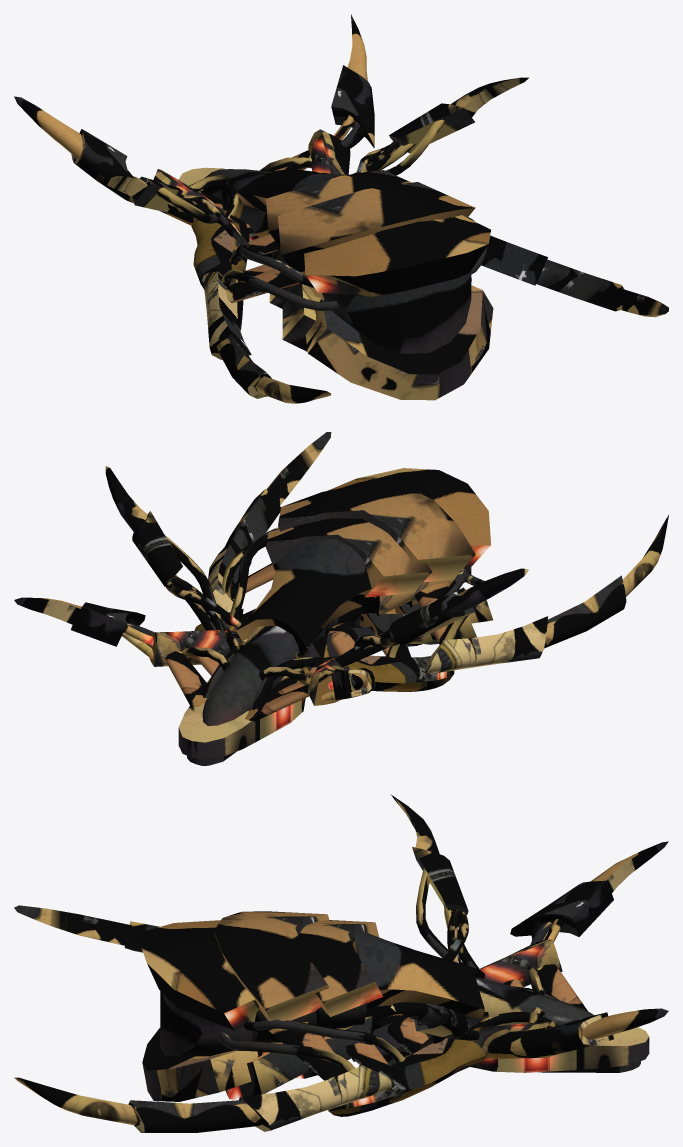
Rendered from ship19f.fbx.
The picture shows the model from 3 angles, top to bottom: view 1: azimuth 30°, elevation 25°; view 2: azimuth 150°, elevation 25°; view 3: azimuth 270°, elevation 25°; orthographic projection. The views are drawn at different scales.
Visible parts, largest first — view 1: PipelineFBX; view 2: PipelineFBX; view 3: PipelineFBX.
Boxes of the visible parts, left/top/right/bottom form: PipelineFBX: left=14, top=14, right=668, bottom=403; PipelineFBX: left=14, top=432, right=668, bottom=765; PipelineFBX: left=14, top=794, right=668, bottom=1132.
Size of the model in its own units: 929 by 388 by 1206.
1 material, 1 textured.
